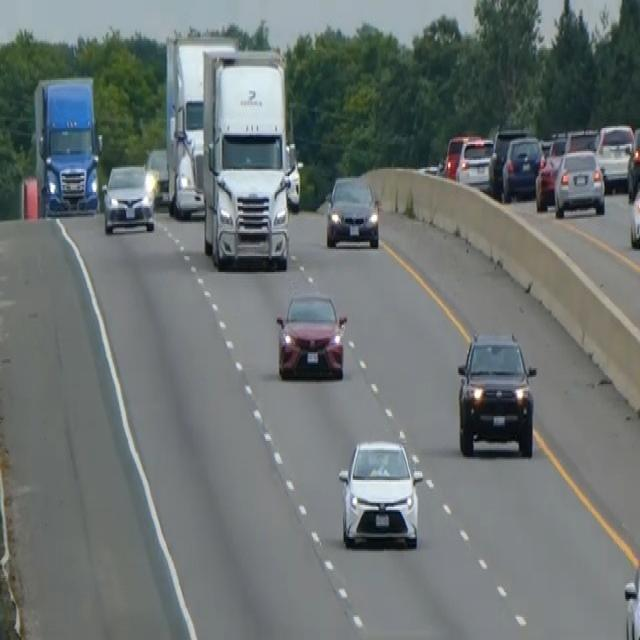car: (336, 434, 421, 551), (275, 290, 348, 380), (325, 172, 380, 249), (101, 162, 155, 233), (553, 148, 605, 218), (501, 133, 543, 201), (443, 132, 493, 188), (594, 121, 634, 190), (488, 126, 528, 194), (534, 135, 566, 210), (144, 146, 170, 206), (622, 560, 639, 638), (626, 124, 639, 201), (628, 180, 639, 247)
jeep: (455, 327, 538, 459)
lorry: (200, 44, 295, 272), (32, 71, 103, 217)
